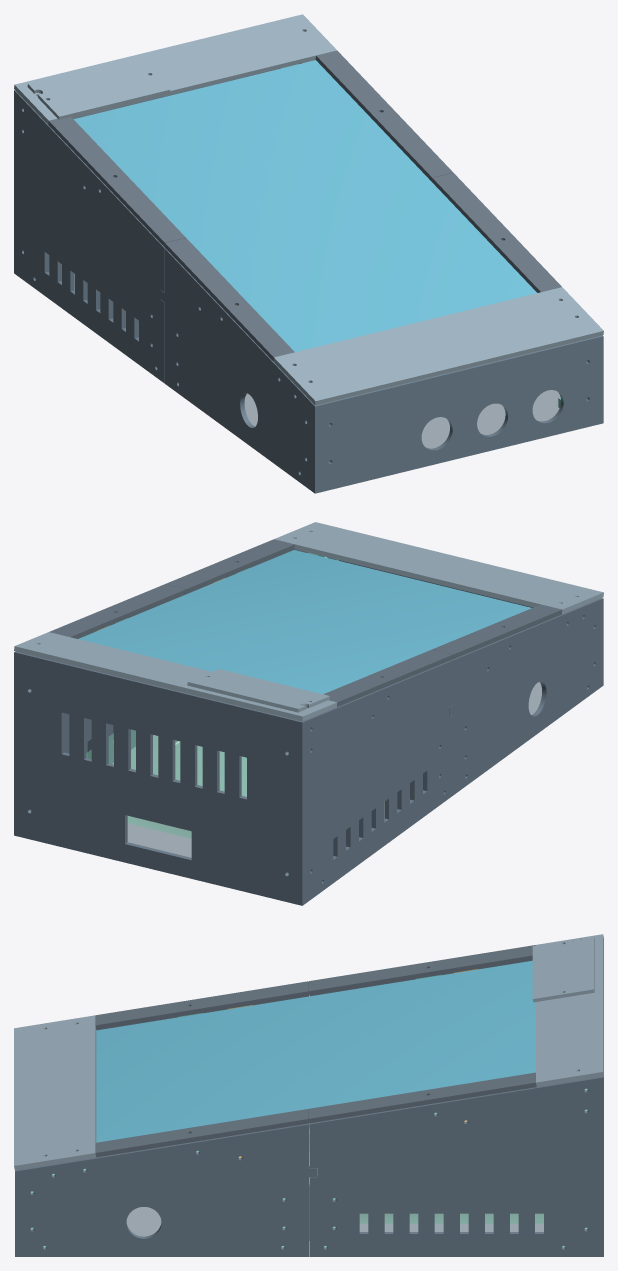
Rendered from cabinet.glb.
The picture shows the model from 3 angles, top to bottom: view 1: azimuth 30°, elevation 25°; view 2: azimuth 150°, elevation 25°; view 3: azimuth 270°, elevation 25°; orthographic projection. The views are drawn at different scales.
Parts seen in each view (by area): view 1: REFERENCE_Monitor, left_rear_wall, front_button_panel, left_front_wall, front_cable_lid, rear_control_deck, control_hatch, bezel_right_rear, bezel_left_rear, bezel_left_front, bezel_right_front, bottom_front; view 2: rear_vent_panel, REFERENCE_Monitor, left_rear_wall, left_front_wall, front_cable_lid, rear_control_deck, bottom_rear, control_hatch, bezel_right_rear, bezel_left_rear, REFERENCE_Dell_3050, bezel_right_front (+2 smaller); view 3: REFERENCE_Monitor, right_rear_wall, right_front_wall, front_cable_lid, rear_control_deck, control_hatch, bezel_right_rear, bezel_left_rear, bezel_right_front, bezel_left_front, bottom_rear, bottom_front (+1 smaller).
Boxes of the visible parts, bbox=[...] form: REFERENCE_Monitor: bbox=[73, 60, 536, 352]; left_rear_wall: bbox=[14, 90, 164, 383]; front_button_panel: bbox=[319, 336, 598, 492]; left_front_wall: bbox=[160, 248, 319, 493]; front_cable_lid: bbox=[273, 287, 603, 405]; rear_control_deck: bbox=[14, 14, 336, 124]; control_hatch: bbox=[27, 56, 170, 119]; bezel_right_rear: bbox=[315, 50, 452, 181]; bezel_left_rear: bbox=[48, 117, 185, 246]; bezel_left_front: bbox=[164, 238, 294, 360]; bezel_right_front: bbox=[432, 172, 561, 292]; bottom_front: bbox=[244, 390, 560, 448]; rear_vent_panel: bbox=[18, 652, 299, 904]; REFERENCE_Monitor: bbox=[78, 550, 531, 694]; left_rear_wall: bbox=[298, 660, 452, 905]; left_front_wall: bbox=[449, 598, 603, 795]; front_cable_lid: bbox=[274, 522, 603, 614]; rear_control_deck: bbox=[14, 632, 337, 721]; bottom_rear: bbox=[112, 735, 384, 857]; control_hatch: bbox=[187, 669, 329, 712]; bezel_right_rear: bbox=[49, 584, 185, 638]; bezel_left_rear: bbox=[323, 649, 453, 706]; REFERENCE_Dell_3050: bbox=[86, 729, 246, 838]; bezel_right_front: bbox=[165, 539, 294, 593]; REFERENCE_Monitor: bbox=[96, 960, 535, 1142]; right_rear_wall: bbox=[309, 1076, 603, 1256]; right_front_wall: bbox=[15, 1123, 316, 1256]; front_cable_lid: bbox=[14, 1015, 96, 1170]; rear_control_deck: bbox=[536, 934, 603, 1086]; control_hatch: bbox=[532, 936, 594, 1002]; bezel_right_rear: bbox=[308, 1072, 536, 1123]; bezel_left_rear: bbox=[308, 945, 535, 995]; bezel_right_front: bbox=[95, 1109, 309, 1157]; bezel_left_front: bbox=[95, 981, 309, 1029]; bottom_rear: bbox=[317, 1168, 543, 1231]; bottom_front: bbox=[126, 1207, 161, 1236].
Bounding box in the file's own units: 0.26 × 0.1646 × 0.4707.
